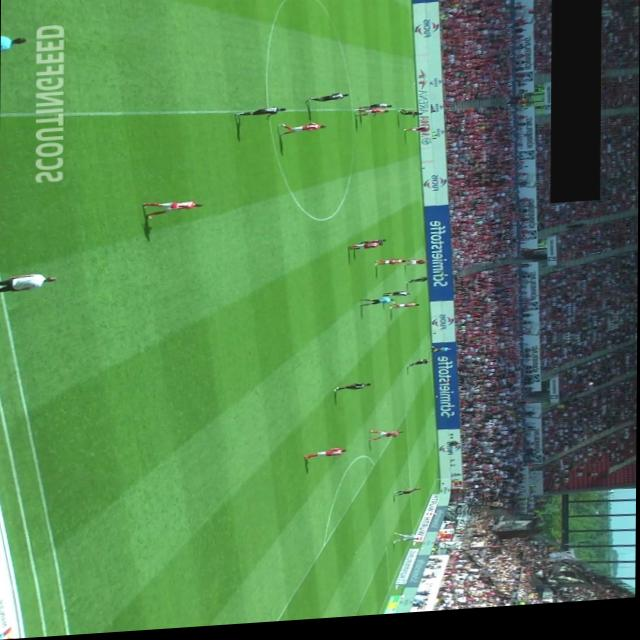goalkeeper: (394, 537, 422, 550)
player: (141, 202, 203, 222), (234, 110, 286, 126), (278, 125, 326, 141), (304, 452, 348, 464), (368, 433, 402, 447), (307, 97, 349, 107), (347, 246, 384, 256), (334, 387, 372, 396), (354, 114, 389, 123), (357, 108, 391, 116), (396, 113, 420, 124), (393, 493, 421, 502), (374, 264, 404, 271), (390, 307, 420, 314), (403, 264, 428, 272), (408, 365, 432, 373), (403, 132, 430, 139), (382, 297, 412, 303), (360, 245, 387, 250), (407, 283, 429, 289)
referee: (0, 35, 26, 50), (359, 302, 395, 312), (429, 352, 453, 359)
